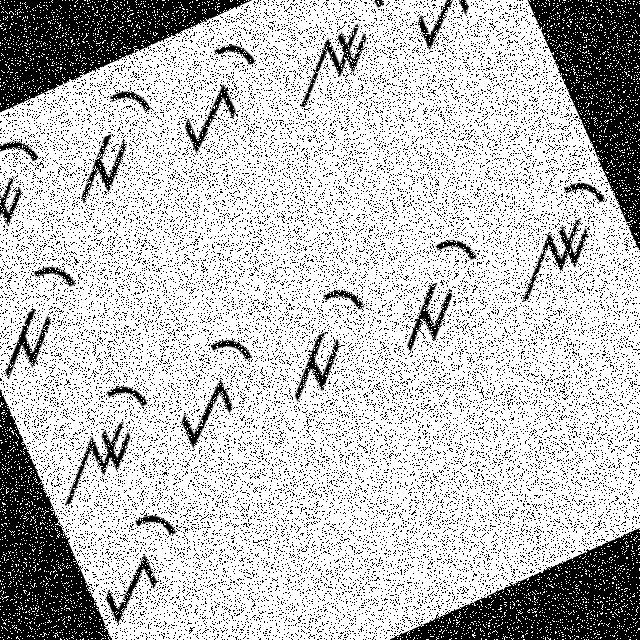hay: (68, 486, 205, 626), (146, 320, 285, 454), (157, 28, 286, 156), (385, 0, 520, 60)
mbay: (39, 72, 184, 210), (257, 270, 394, 406), (370, 224, 508, 358), (0, 246, 105, 383)
nday: (19, 359, 180, 511), (478, 162, 636, 312), (261, 0, 417, 119), (0, 126, 70, 267)
